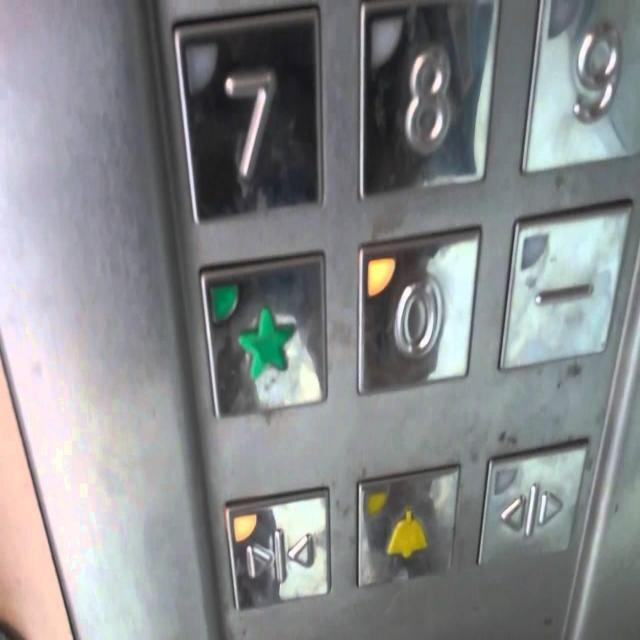-: (497, 198, 633, 372)
0: (356, 225, 480, 401)
7: (172, 7, 327, 229)
8: (354, 0, 502, 198)
9: (520, 0, 637, 181)
alarm: (354, 462, 458, 596)
close: (223, 479, 333, 610)
open: (473, 437, 589, 577)
s: (194, 252, 330, 425)
